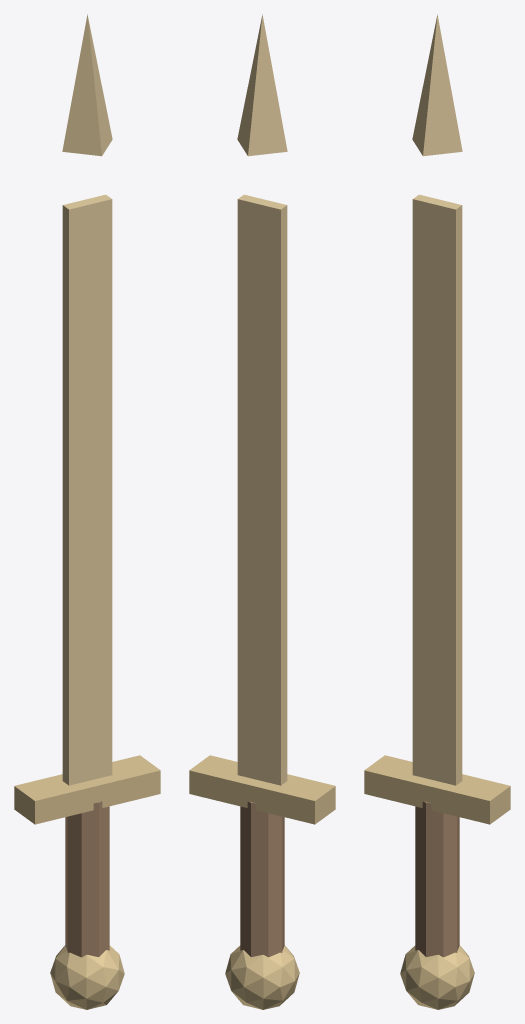
File: WPN_BronzeSword.glb
3 renders of one model, left to right at view 1: azimuth 30°, elevation 25°; view 2: azimuth 150°, elevation 25°; view 3: azimuth 330°, elevation 25°, orthographic.
Parts seen in each view (by area): view 1: Sword_3, Sword_0, Sword_2, Sword_4, Sword_1; view 2: Sword_3, Sword_0, Sword_2, Sword_4, Sword_1; view 3: Sword_3, Sword_0, Sword_2, Sword_4, Sword_1.
Boxes of the visible parts, box(x1,y1,x2,y2) form: Sword_3: box(62, 194, 112, 785); Sword_0: box(65, 801, 109, 957); Sword_2: box(14, 755, 160, 824); Sword_4: box(62, 14, 112, 156); Sword_1: box(50, 945, 124, 1009); Sword_3: box(237, 194, 287, 785); Sword_0: box(240, 801, 284, 957); Sword_2: box(189, 755, 335, 824); Sword_4: box(237, 14, 287, 156); Sword_1: box(225, 945, 299, 1009); Sword_3: box(412, 194, 462, 785); Sword_0: box(415, 801, 459, 957); Sword_2: box(364, 755, 510, 824); Sword_4: box(412, 14, 462, 156); Sword_1: box(400, 945, 474, 1009).
Size of the model in its own units: 0.14 by 1.06 by 0.072.
